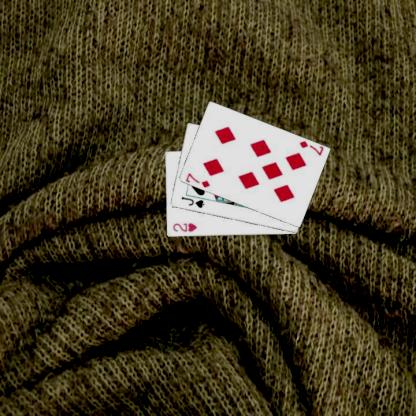2H: (170, 221, 198, 233)
7D: (183, 170, 211, 189), (297, 139, 324, 157)
JS: (179, 194, 205, 209)
